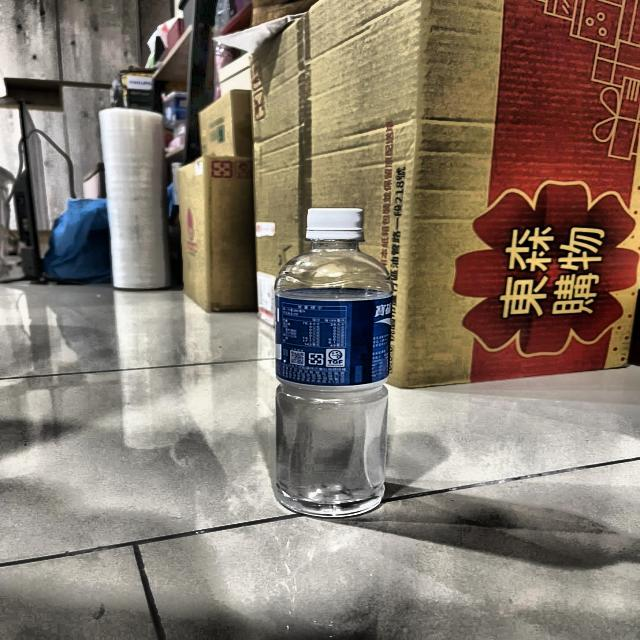Bottles: (265, 198, 403, 534)
